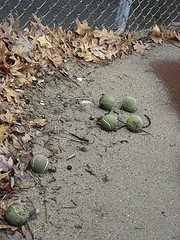tennis ball: (5, 203, 29, 226), (30, 155, 51, 174), (98, 92, 118, 110), (101, 114, 119, 132), (125, 115, 144, 132), (122, 95, 139, 112)
